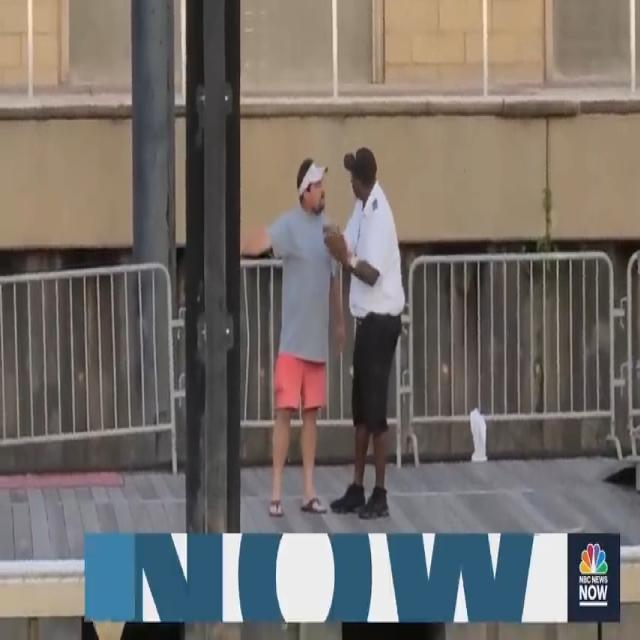non-fight: (242, 141, 405, 525)
